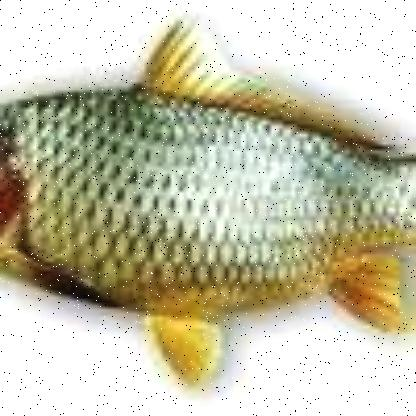ikan-mas: (0, 53, 416, 340)
